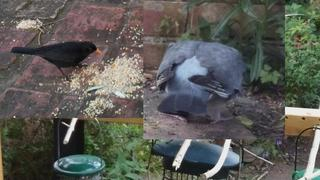blackbird: (10, 40, 103, 83)
wood pigeon: (155, 40, 245, 126)
